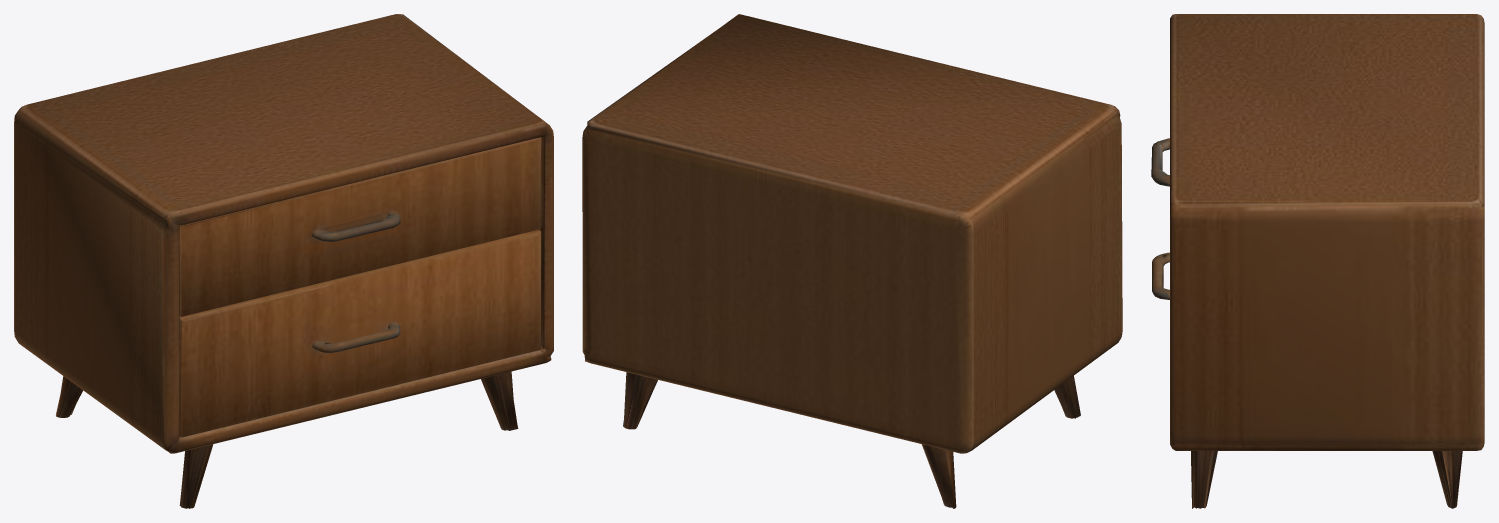
The model's file is bedside__4.glb.
3 views of the same model, side by side, from view 1: azimuth 30°, elevation 25°; view 2: azimuth 150°, elevation 25°; view 3: azimuth 270°, elevation 25° (orthographic). The views are drawn at different scales.
Parts seen in each view (by area): view 1: Mesh_0.112; view 2: Mesh_0.112; view 3: Mesh_0.112.
Part boxes in pixels (x1,y1,x2,y2): Mesh_0.112: [14, 14, 553, 508]; Mesh_0.112: [582, 14, 1122, 508]; Mesh_0.112: [1151, 14, 1484, 508].
Bounding box in the file's own units: 0.8214 × 0.62 × 0.5884.
Materials: 1 (1 with a texture image).
